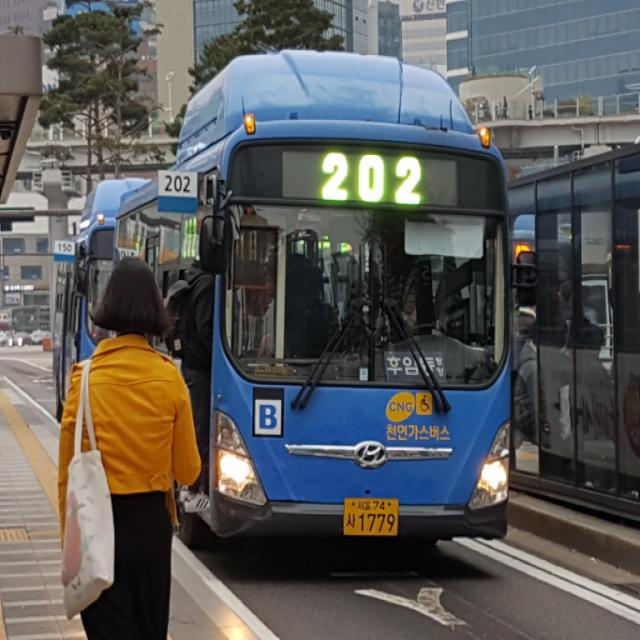bus-number: (321, 150, 424, 206)
